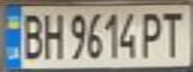1: (103, 9, 121, 60)
4: (118, 8, 142, 60)
6: (84, 9, 106, 60)
9: (66, 9, 87, 61)
B: (18, 9, 45, 61)
H: (39, 9, 66, 61)
P: (139, 8, 166, 59)
T: (157, 8, 190, 59)
